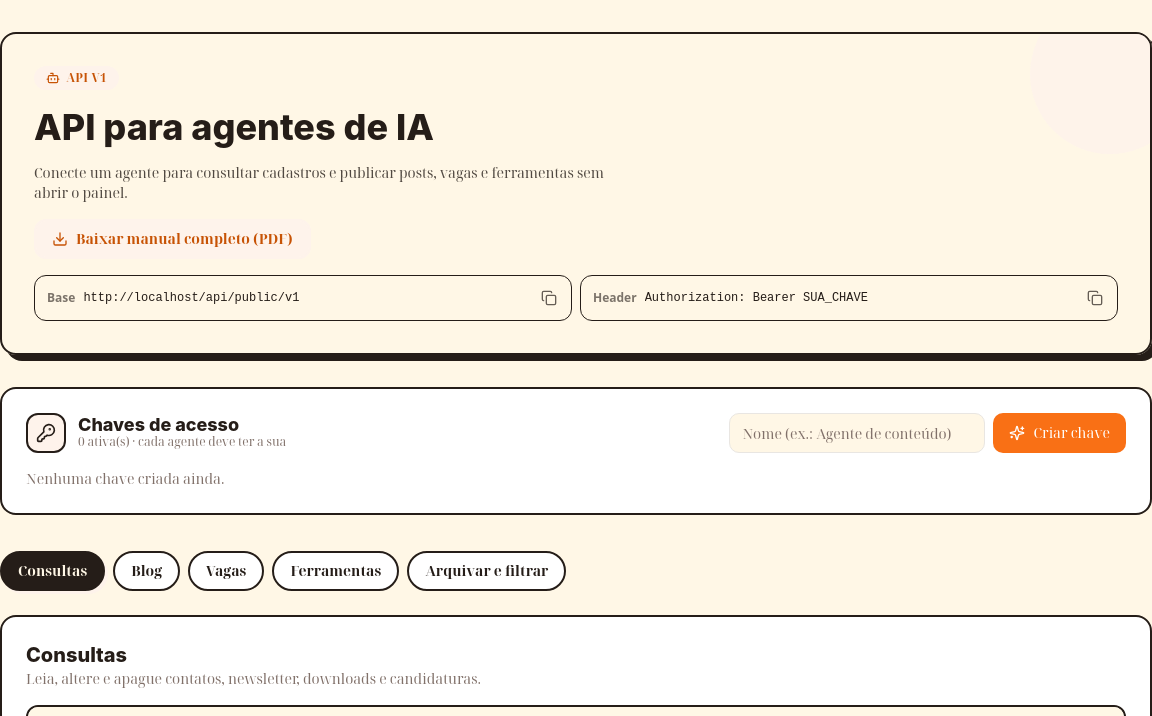
Manual da API — abas › aba Vagas mostra seus endpoints
Click the tab "Vagas".
click(226, 571)  # box [188,551,264,591]
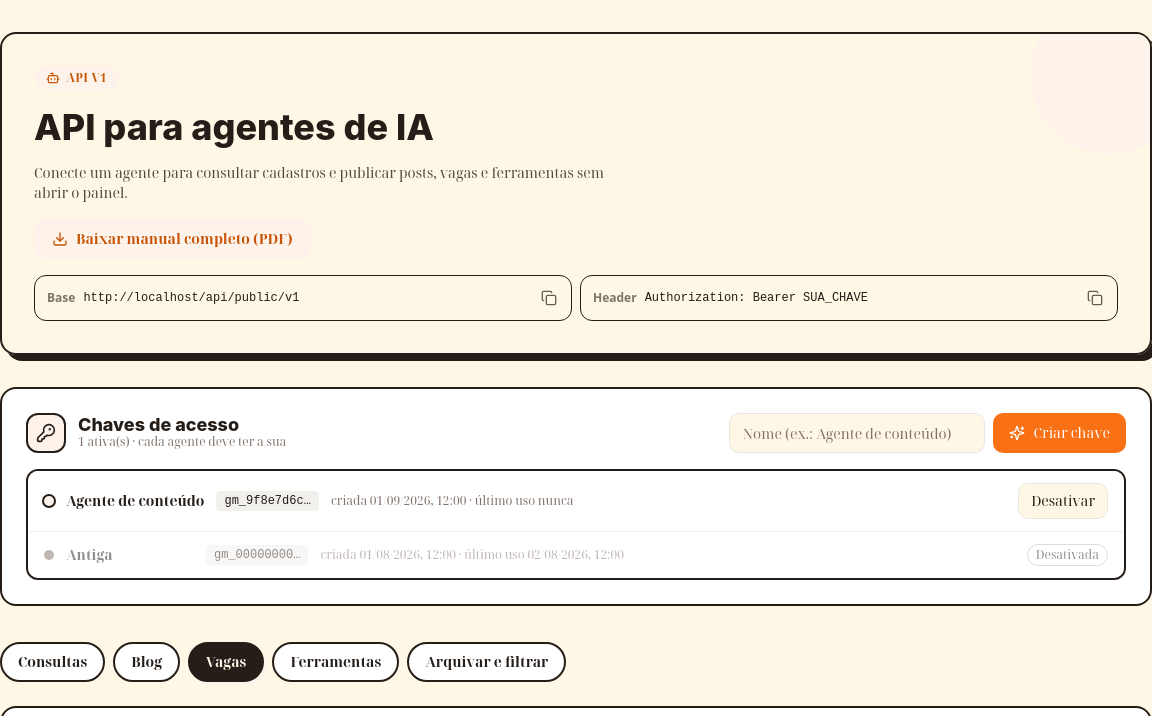
Result: the tab "Vagas" is selected at [188,642,264,682]
Result: the tab "Vagas" has attribute tabindex="0" at [188,642,264,682]
Result: the tab "Consultas" has attribute tabindex="-1" at [0,642,105,682]
